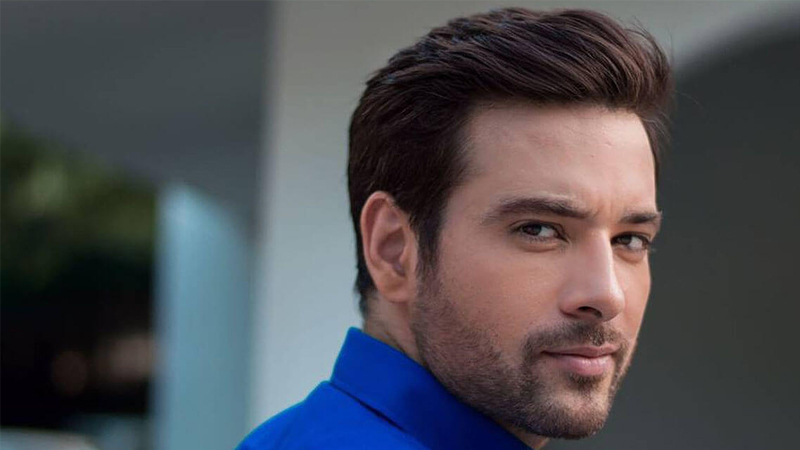NoMask: (478, 188, 669, 441)
